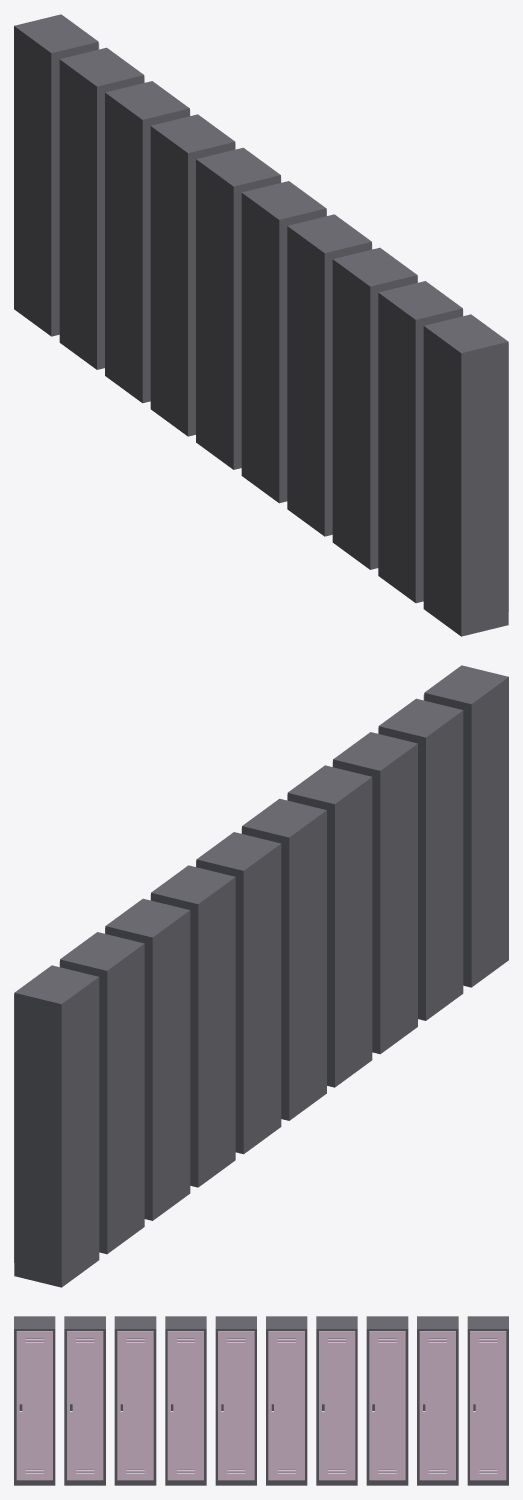
File: casillero con textura.fbx
3 views of the same model, one above another, from view 1: azimuth 30°, elevation 25°; view 2: azimuth 150°, elevation 25°; view 3: azimuth 270°, elevation 25° (orthographic). The views are drawn at different scales.
Parts seen in each view (by area): view 1: casillero 7; view 2: casillero 7; view 3: puerta casillero 1, casillero 7.
Boxes of the visible parts, <box> form: casillero 7: <box>14,14,508,636</box>; casillero 7: <box>14,665,508,1287</box>; puerta casillero 1: <box>16,1331,506,1480</box>; casillero 7: <box>14,1316,508,1485</box>.
Size of the model in its own units: 38 by 206 by 589.
